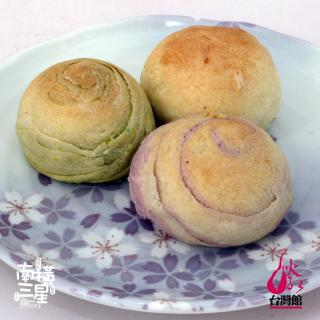Bread: (127, 115, 292, 243), (15, 56, 159, 184), (135, 26, 280, 120)
